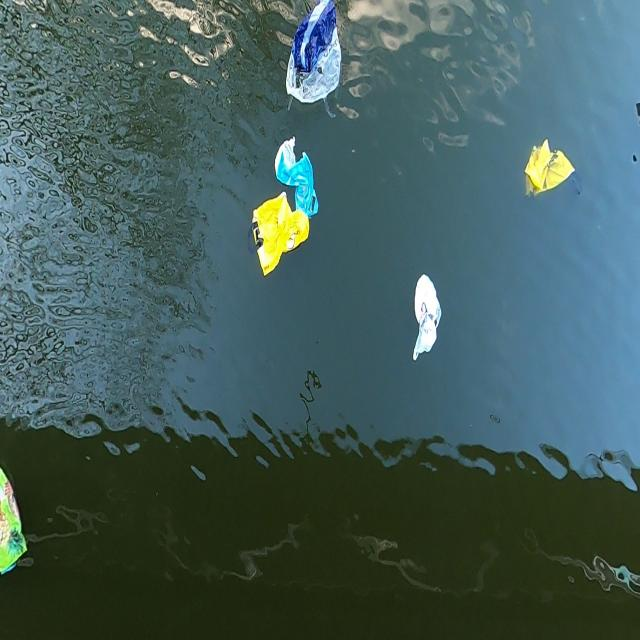Sac plastique: (276, 0, 348, 115), (246, 196, 312, 288), (518, 134, 589, 204), (403, 268, 450, 368), (273, 132, 323, 212)
